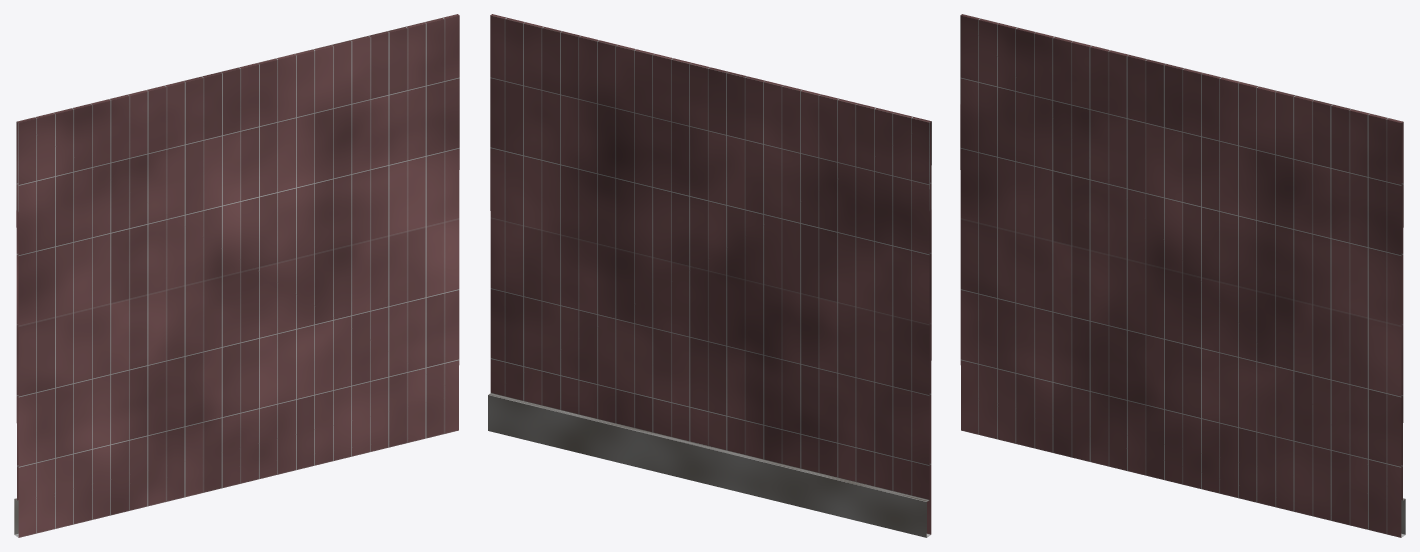
Rendered from Color_Wall.fbx.
3 views of the same model, side by side, from view 1: azimuth 30°, elevation 25°; view 2: azimuth 150°, elevation 25°; view 3: azimuth 330°, elevation 25° (orthographic).
Visible parts, largest first — view 1: Plane.011; view 2: Plane.011; view 3: Plane.011.
Boxes of the visible parts, bbox=[...] form: Plane.011: bbox=[14, 14, 459, 537]; Plane.011: bbox=[488, 14, 931, 537]; Plane.011: bbox=[960, 14, 1405, 537].
Size of the model in its own units: 5.01 by 4.5 by 0.0903.
Materials: 1 (1 with a texture image).
